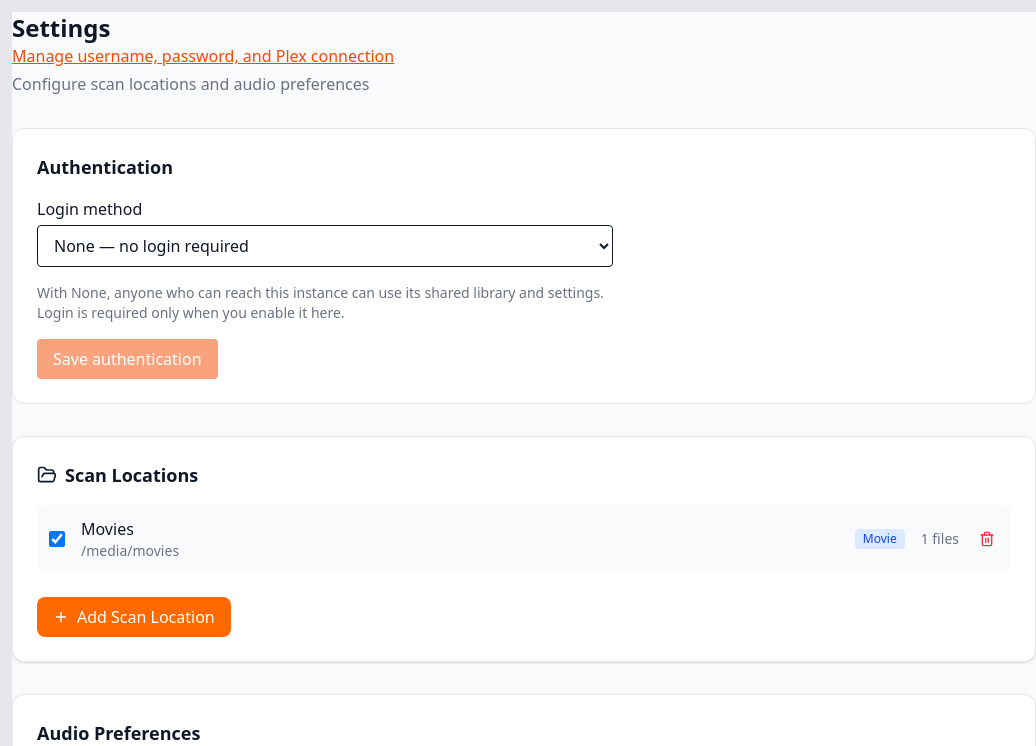
reports failed toggles and deletes without pretending they succeeded
What coordinates should you click on to do the following:
click the checkbox named "Enable Movies"
I would click on:
 (57, 539)
Its box is x1=49 y1=531 x2=65 y2=547.
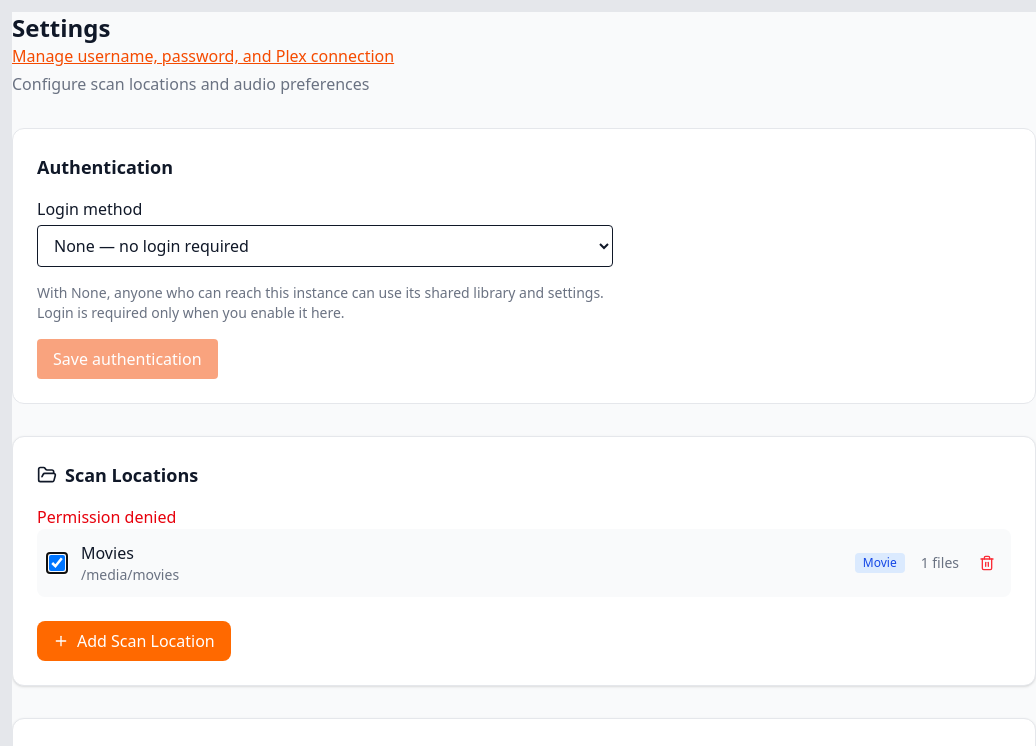
Expected: the checkbox named "Enable Movies" is checked, x1=49 y1=555 x2=65 y2=571
Result: the text "Permission denied" is shown at x1=37 y1=506 x2=176 y2=528
What coordinates should you click on to do the following:
click the button named "Delete Movies"
I would click on:
 (987, 563)
Its box is x1=975 y1=551 x2=999 y2=575.
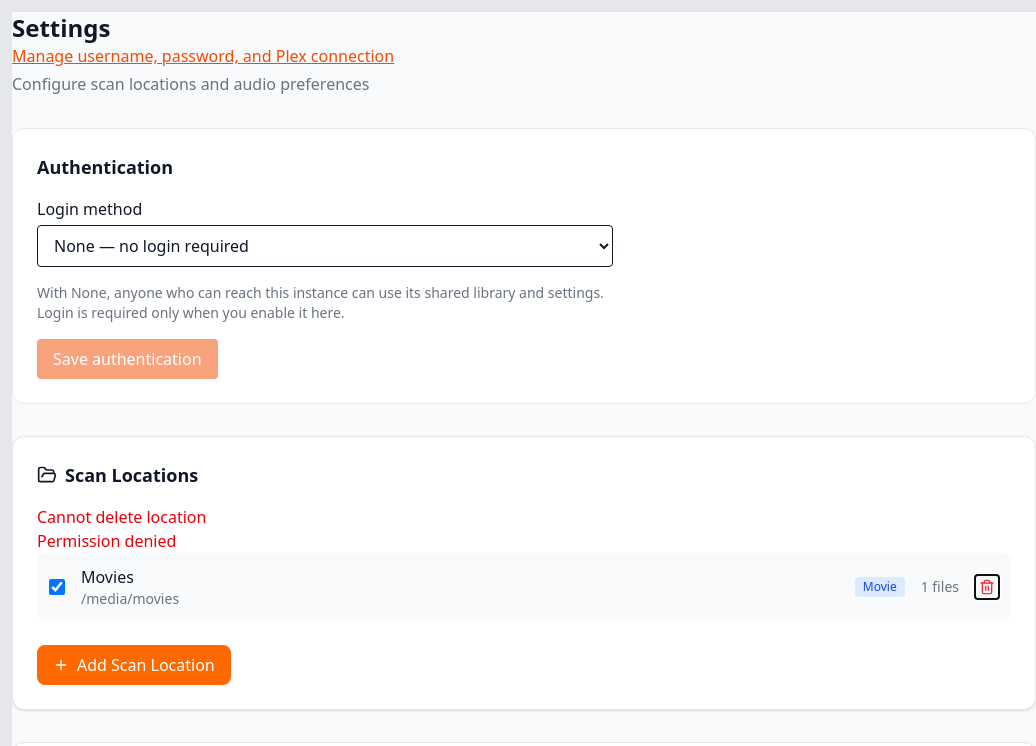
Expected: the checkbox named "Enable Movies" is shown, x1=49 y1=579 x2=65 y2=595
Result: the text "Cannot delete location" is shown at x1=37 y1=506 x2=206 y2=528
